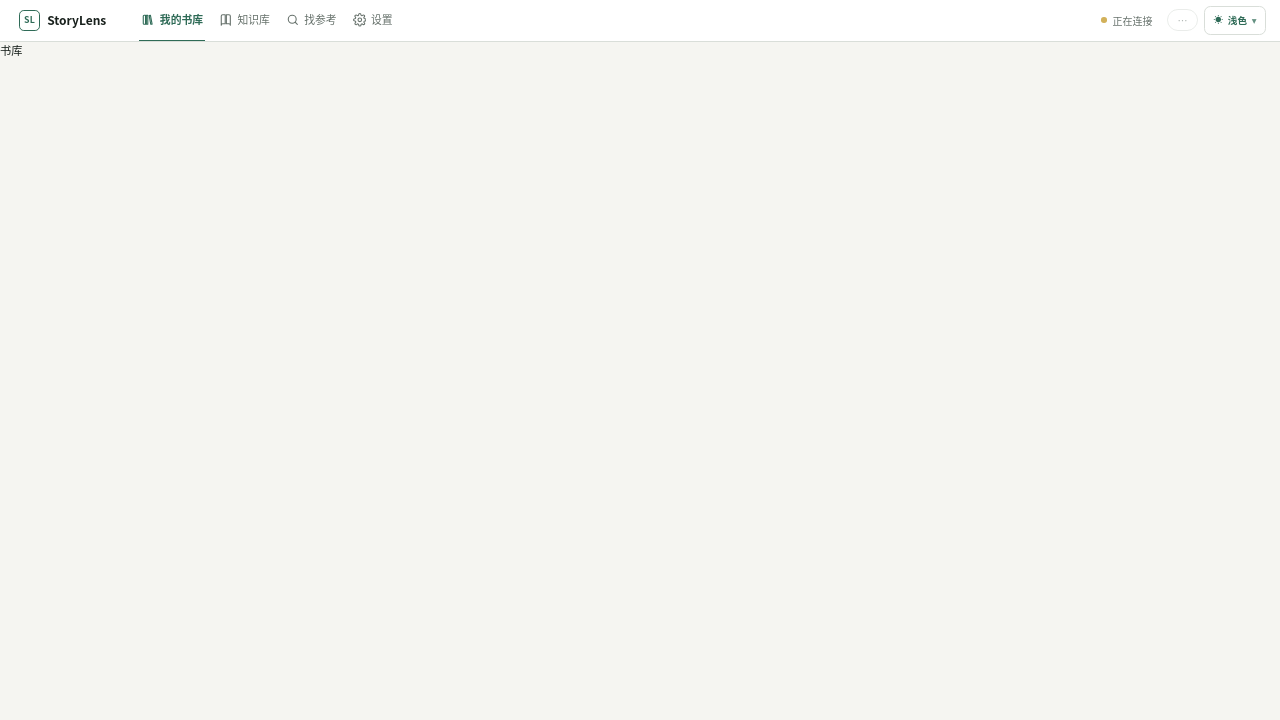
Test: Appearance theme header control › shows labeled control on the top-right and persists dark choice
Click the button with test id "appearance-theme-trigger".
click(1235, 20)  # box [1204,6,1266,35]
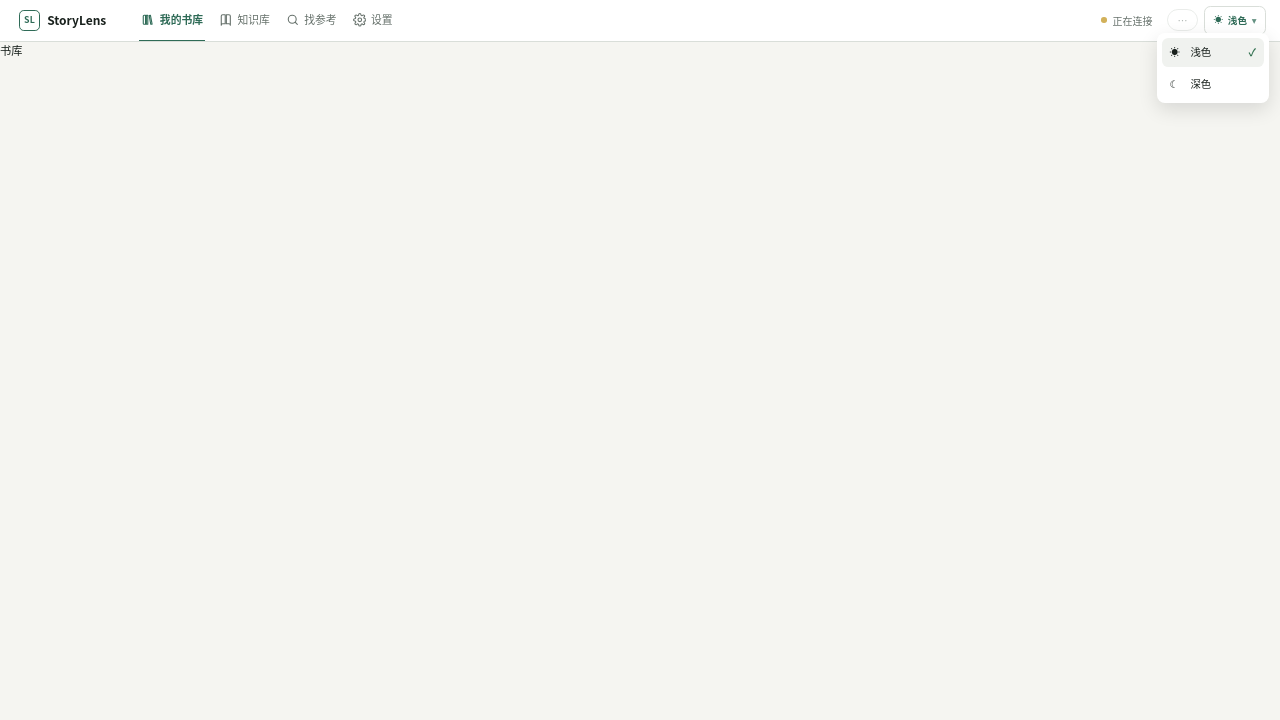
Click the menu item with test id "appearance-theme-option-dark".
click(1213, 84)  # box [1162,70,1264,99]
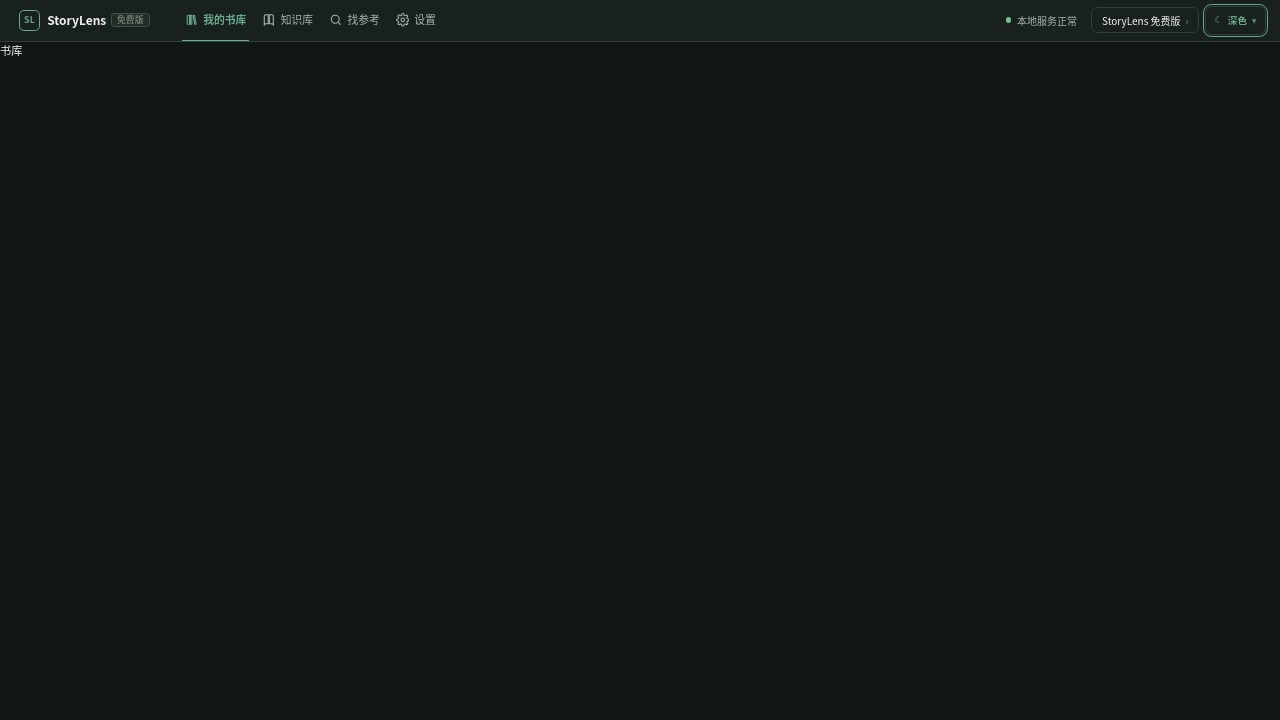
Check: the button with test id "appearance-theme-trigger" shows "深色", box [1205,6,1266,35]
